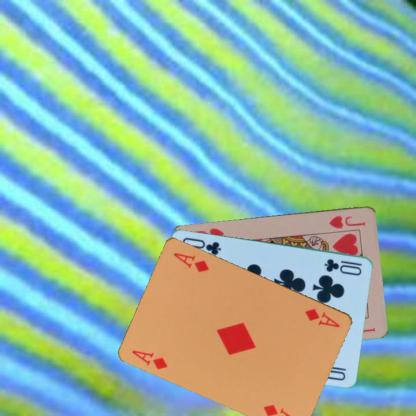10c: (322, 256, 363, 277)
Ad: (130, 347, 170, 371), (303, 306, 341, 328)
Jh: (326, 213, 367, 230)
